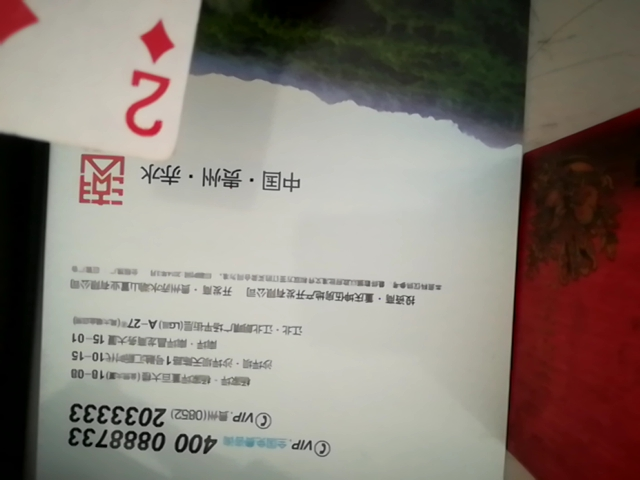fk 2: (4, 1, 226, 189)
